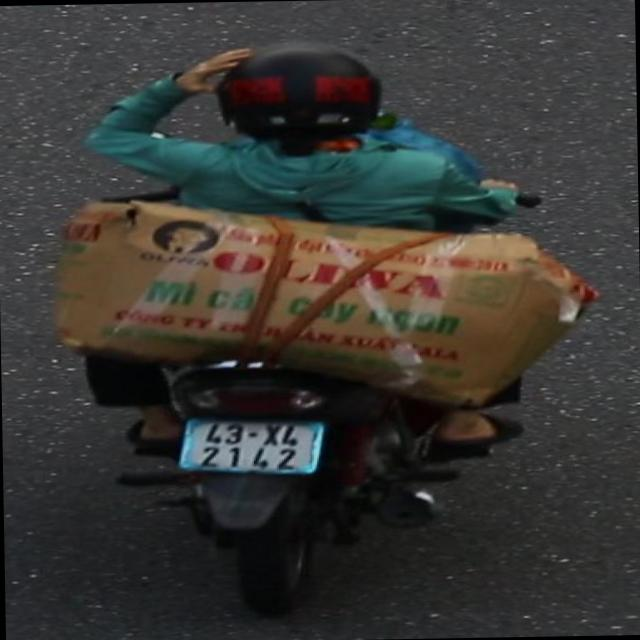LP: (174, 406, 338, 479)
helmet: (200, 28, 410, 158)
